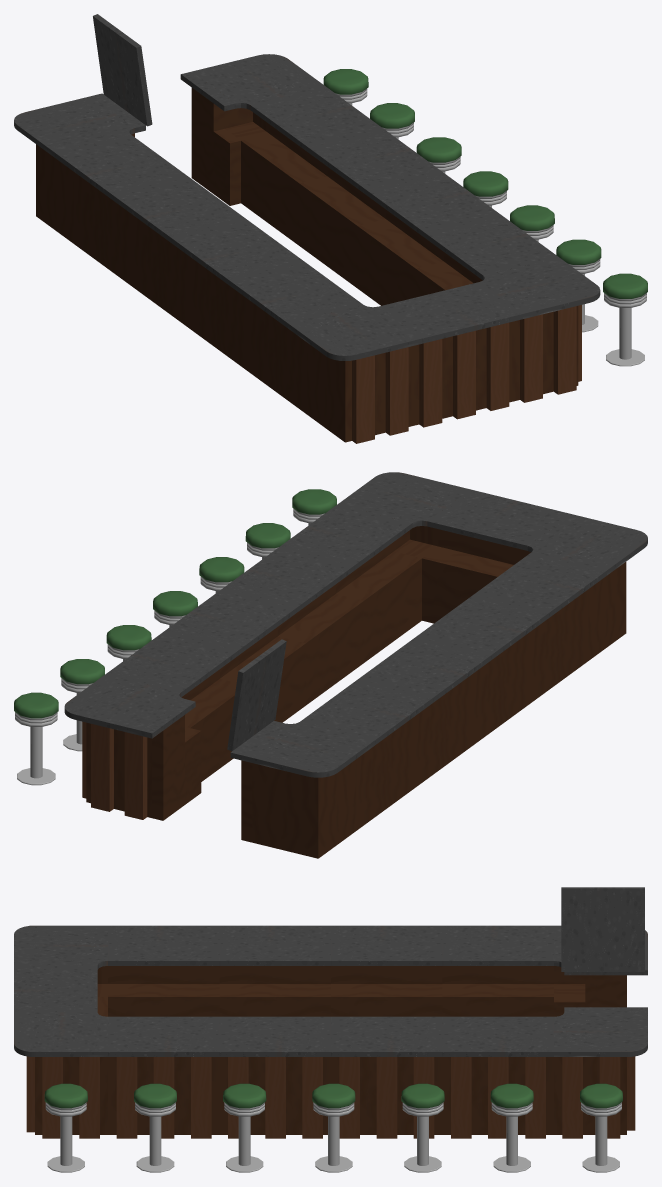
File: Toda la barra.fbx
3 views of the same model, one above another, from view 1: azimuth 30°, elevation 25°; view 2: azimuth 150°, elevation 25°; view 3: azimuth 270°, elevation 25° (orthographic). The views are drawn at different scales.
Parts seen in each view (by area): view 1: Mostrador.004, Cylinder.001; view 2: Mostrador.004, Cylinder.001; view 3: Mostrador.004, Cylinder.001.
Part boxes in pixels (x1=…): Mostrador.004: x1=14, y1=14, x2=600, y2=443; Cylinder.001: x1=323, y1=69, x2=647, y2=366; Mostrador.004: x1=64, y1=472, x2=647, y2=858; Cylinder.001: x1=14, y1=489, x2=336, y2=785; Mostrador.004: x1=14, y1=887, x2=647, y2=1138; Cylinder.001: x1=44, y1=1083, x2=622, y2=1172.
Size of the model in its own units: 665 by 337 by 1138.
